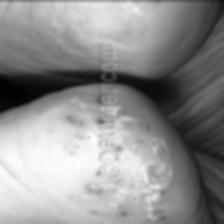Non-Cancerous Skin Condition: (128, 123, 178, 217), (55, 100, 98, 201), (111, 0, 165, 36)
